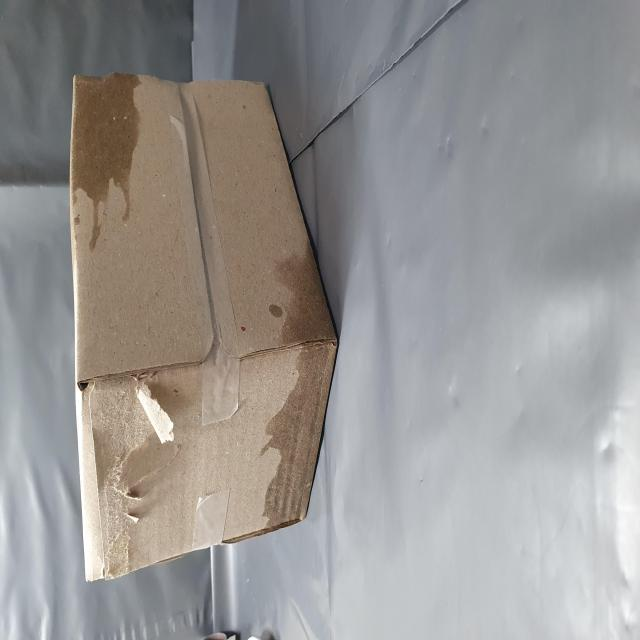wet: (58, 456, 229, 578), (221, 131, 320, 295)
